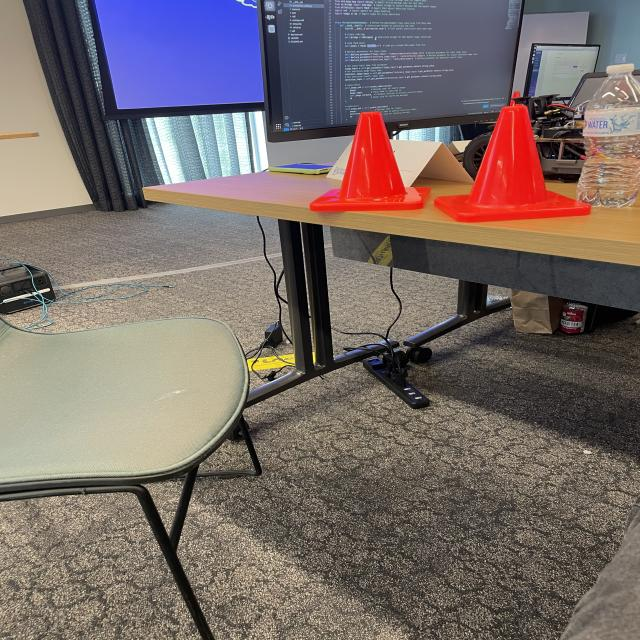Traffic Cone: (434, 100, 596, 232), (304, 106, 432, 222)
